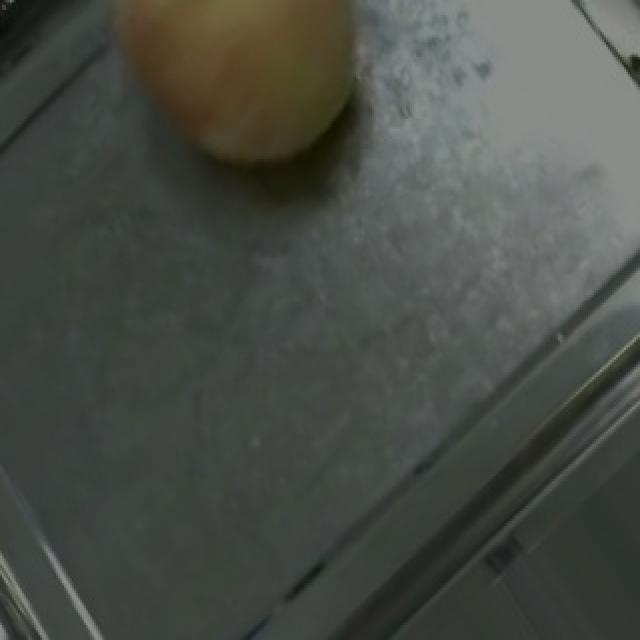Fruit: (74, 0, 404, 211)
